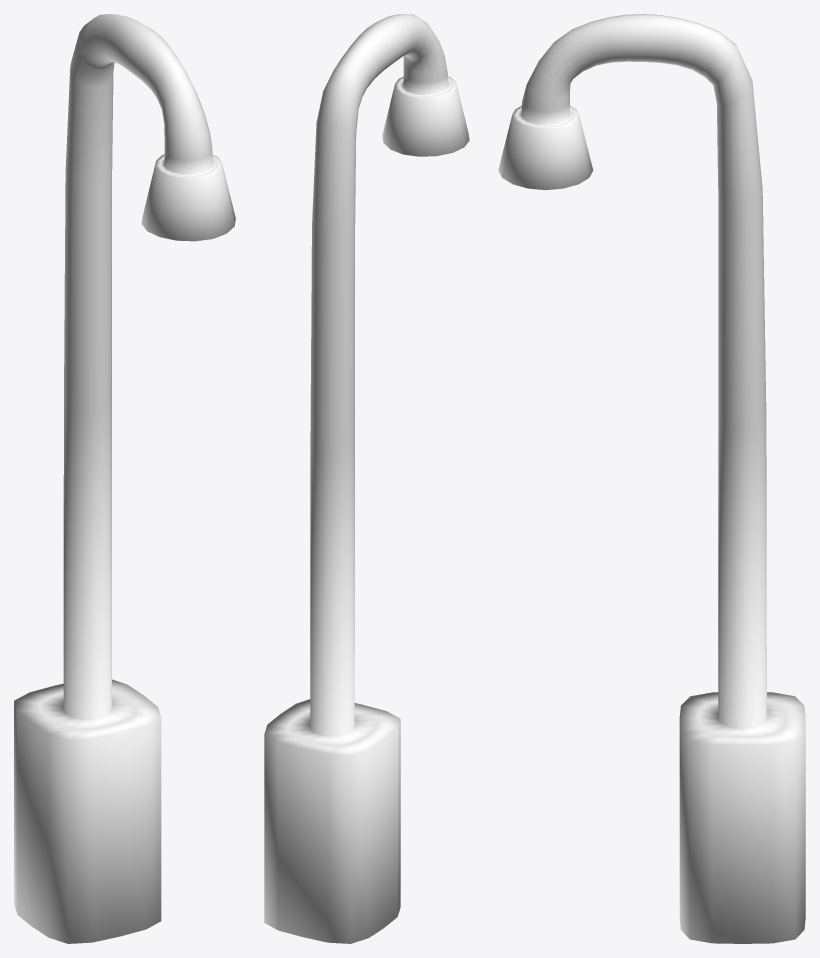
Rendered from light.fbx.
3 views of the same model, side by side, from view 1: azimuth 30°, elevation 25°; view 2: azimuth 150°, elevation 25°; view 3: azimuth 270°, elevation 25° (orthographic). The views are drawn at different scales.
Visible parts, largest first — view 1: Cube; view 2: Cube; view 3: Cube.
Part boxes in pixels (bbox=[...]): Cube: bbox=[14, 14, 235, 943]; Cube: bbox=[264, 14, 469, 943]; Cube: bbox=[498, 14, 805, 943].
Bounding box in the file's own units: 166 × 1305 × 403.
